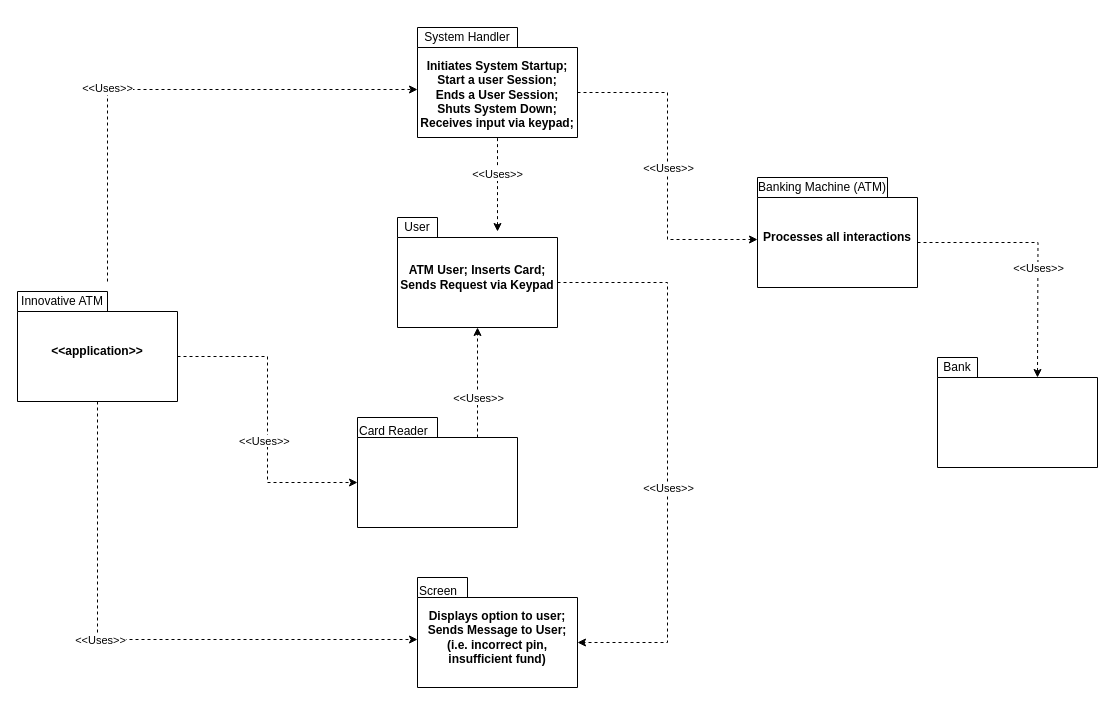
This 1115x705 diagram has some shape labels left out. Here are the shapes that lost their labels. From the top down, the box of each, then its label:
(936, 356, 1098, 468): Processes Withdrawal; Processes Deposits; Checks User Balance; Transfer Funds
(356, 416, 518, 528): Reads User Card; Verifies Pin; Checks Balance; Initiates Transactions
